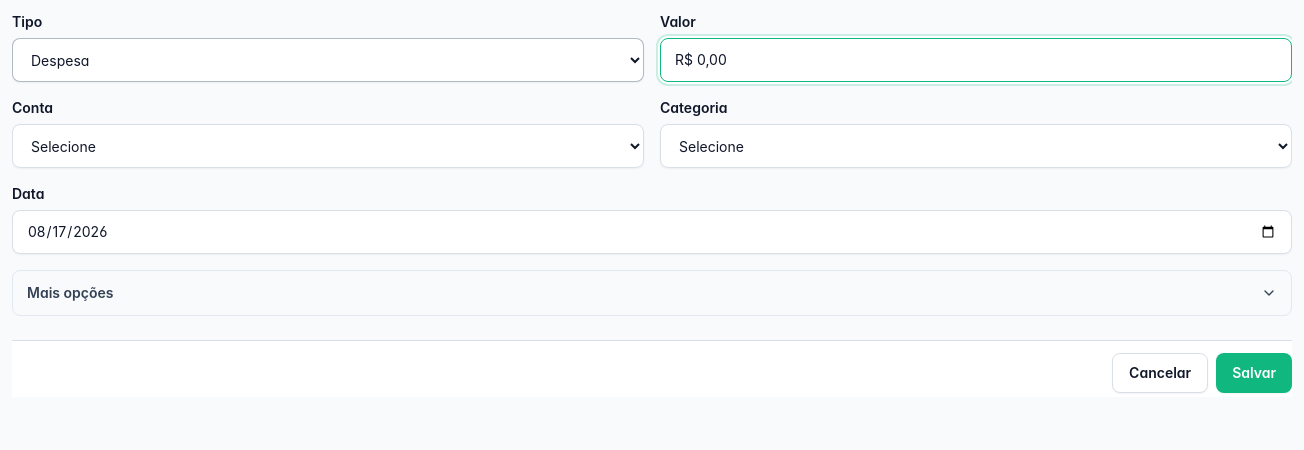
Test: TransactionForm › associa erros aos campos obrigatorios
This screenshot has width=1304, height=450.
Click the button "Salvar" at coordinates (1254, 373), box [1216,353,1292,393]
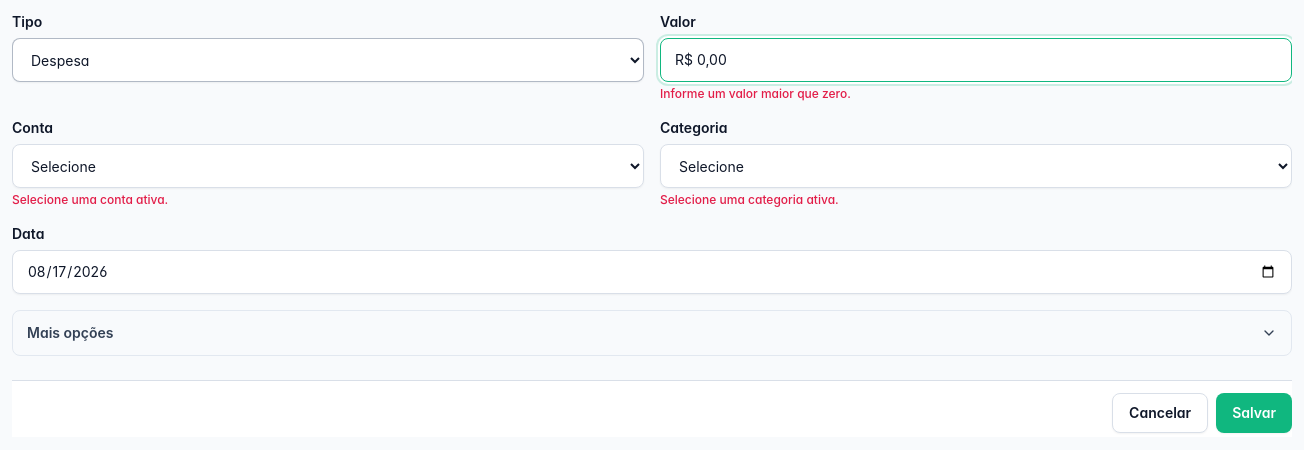
Result: the text "Informe um valor maior que zero." is shown at [660,86,851,101]
